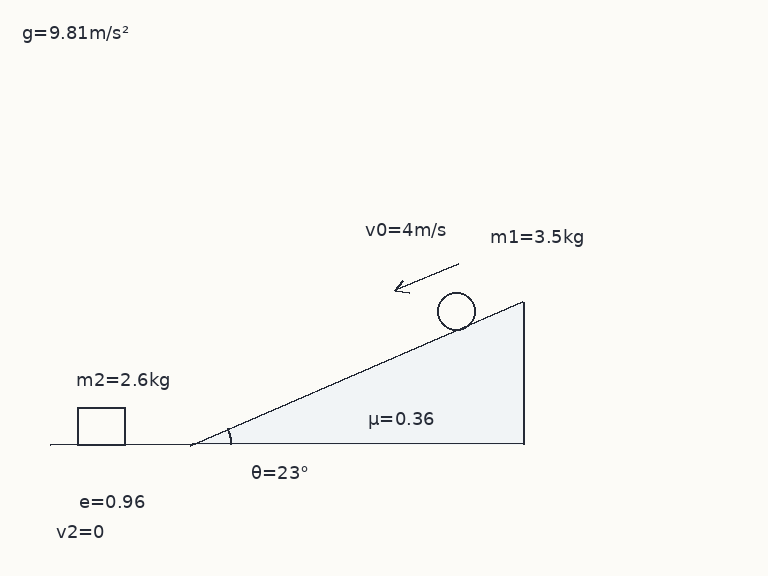ball: (435, 290, 477, 332)
block: (75, 406, 127, 446)
ramp: (189, 301, 525, 446)
